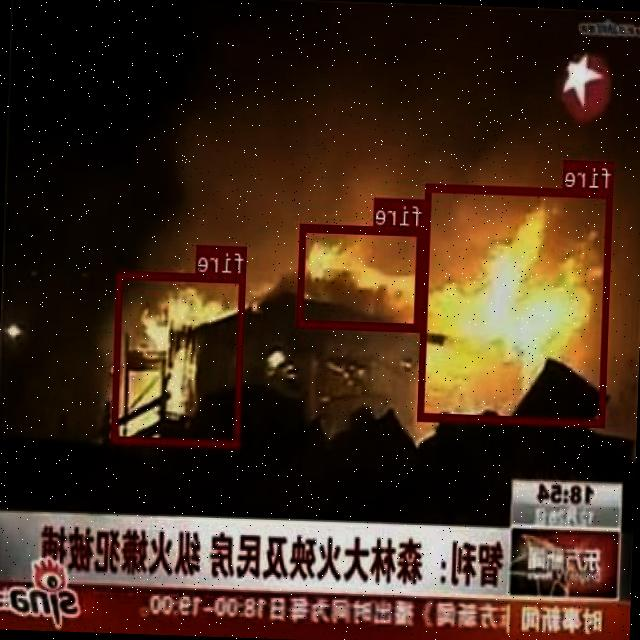fire: (418, 183, 614, 426), (112, 270, 246, 446), (298, 223, 424, 330)
